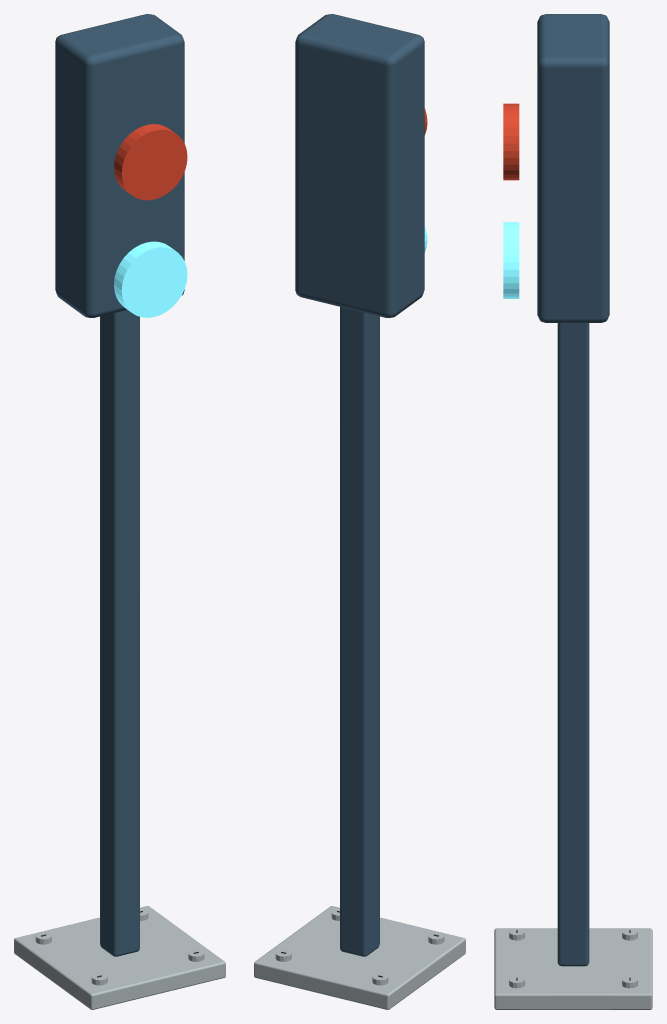
File: container-inspection-and-customs-yard-container-inspec-abf56008__29300.glb
The picture shows the model from 3 angles, left to right: view 1: azimuth 30°, elevation 25°; view 2: azimuth 150°, elevation 25°; view 3: azimuth 270°, elevation 25°; orthographic projection.
Parts seen in each view (by area): view 1: container-inspection-and-customs-yard-truck-stop-signal; view 2: container-inspection-and-customs-yard-truck-stop-signal; view 3: container-inspection-and-customs-yard-truck-stop-signal.
Part boxes in pixels (x1=…): container-inspection-and-customs-yard-truck-stop-signal: x1=14, y1=14, x2=225, y2=1009; container-inspection-and-customs-yard-truck-stop-signal: x1=254, y1=14, x2=465, y2=1009; container-inspection-and-customs-yard-truck-stop-signal: x1=494, y1=14, x2=652, y2=1009.
Size of the model in its own units: 0.35 by 2.3 by 0.35.
